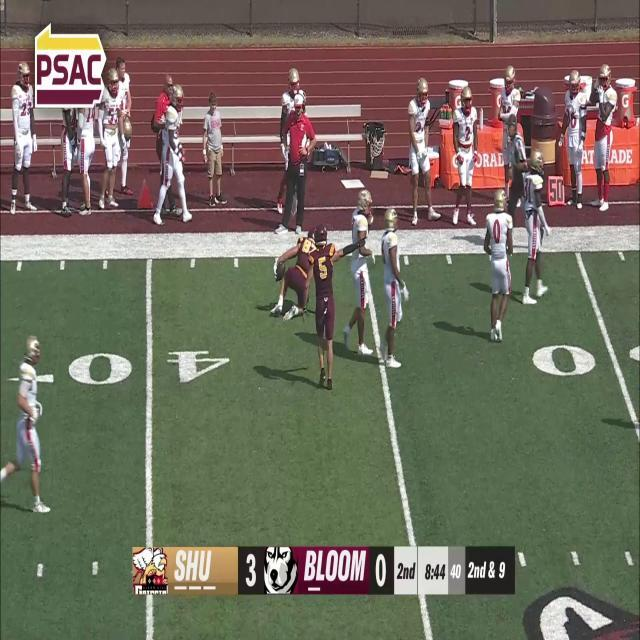football: (274, 259, 286, 283)
